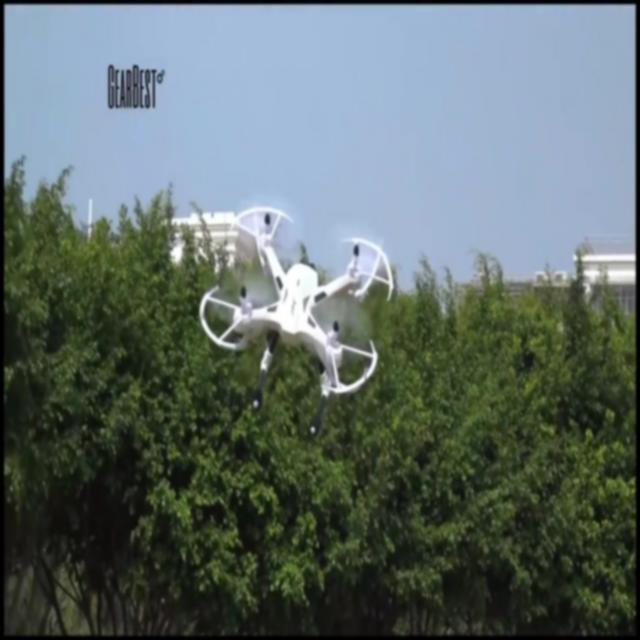UAV: (200, 207, 393, 436)
